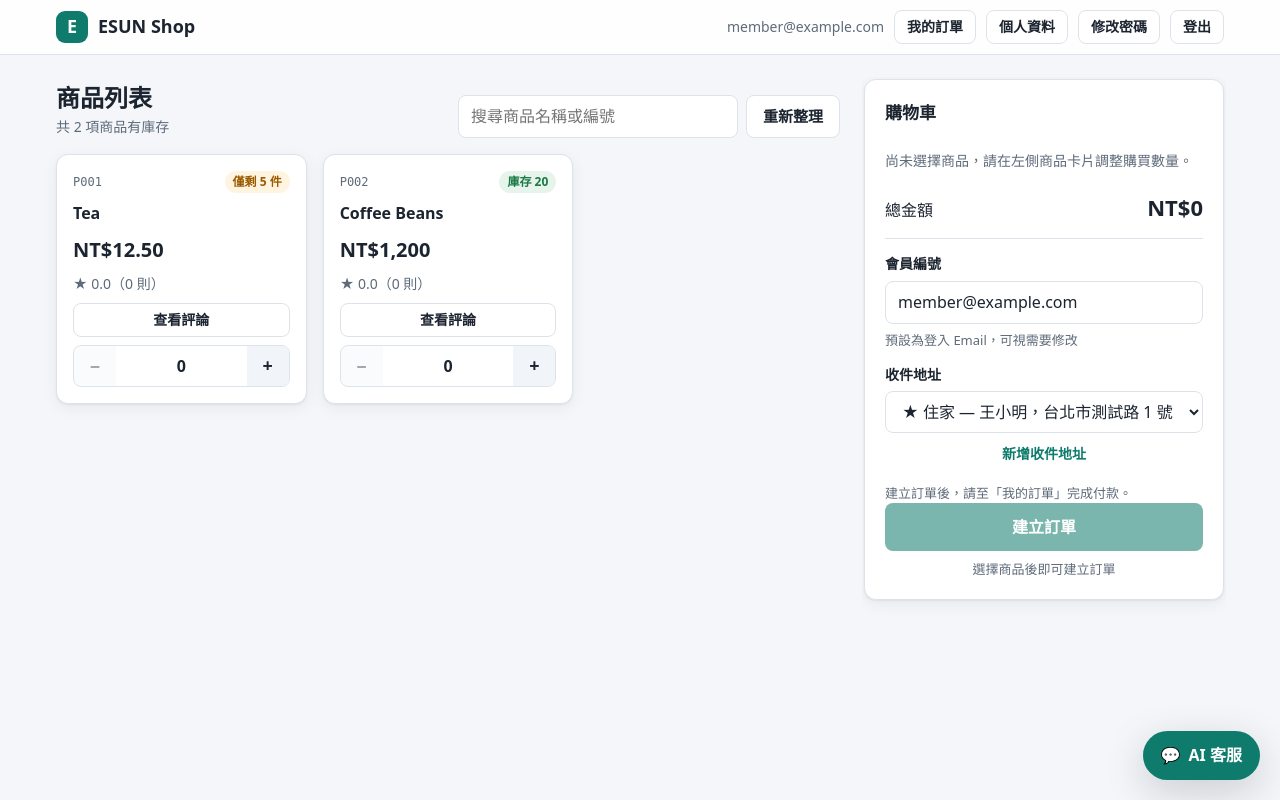
Test case: checkout › shows definitive checkout error, refreshes stock and keeps no retry
The image size is (1280, 800).
Replace the text in the number field named "Tea 購買數量" with "1" at (181, 366), box [116, 346, 247, 386]
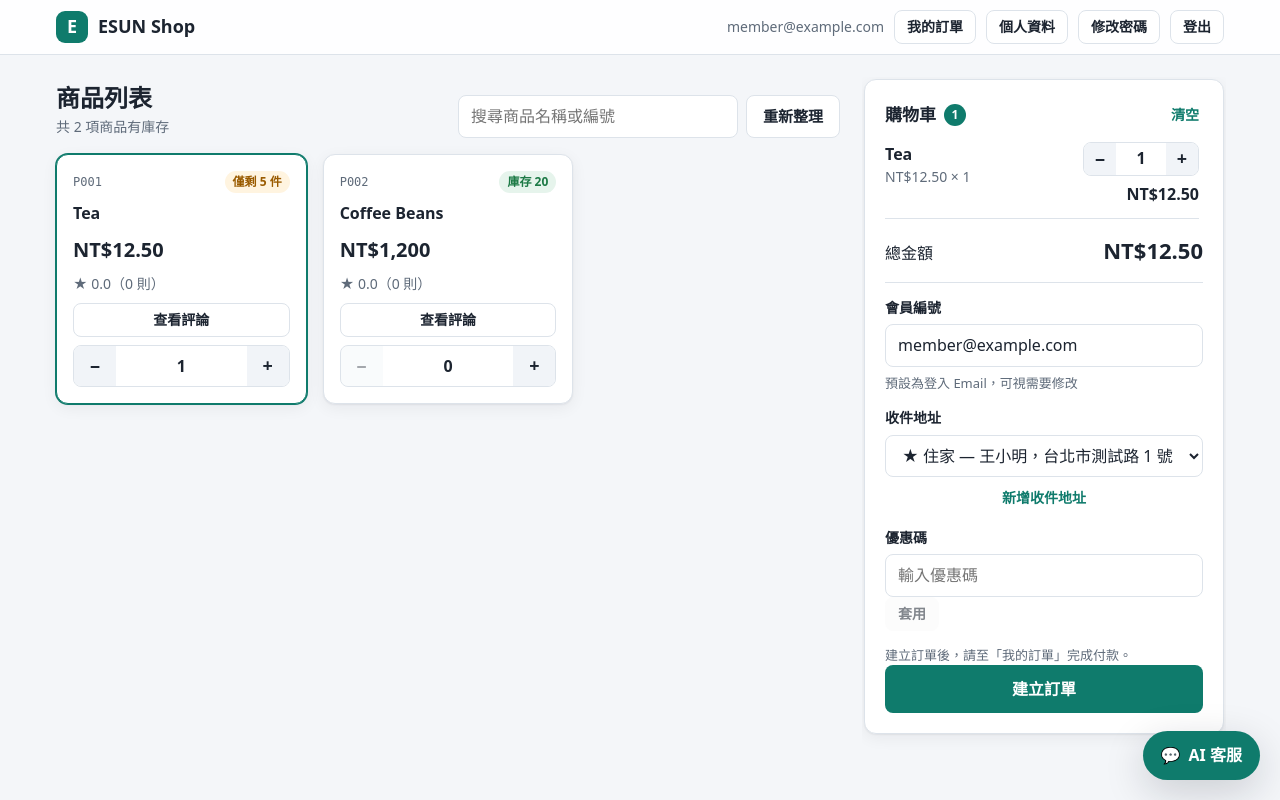
Submit the form with class "checkout", box [885, 282, 1203, 713]
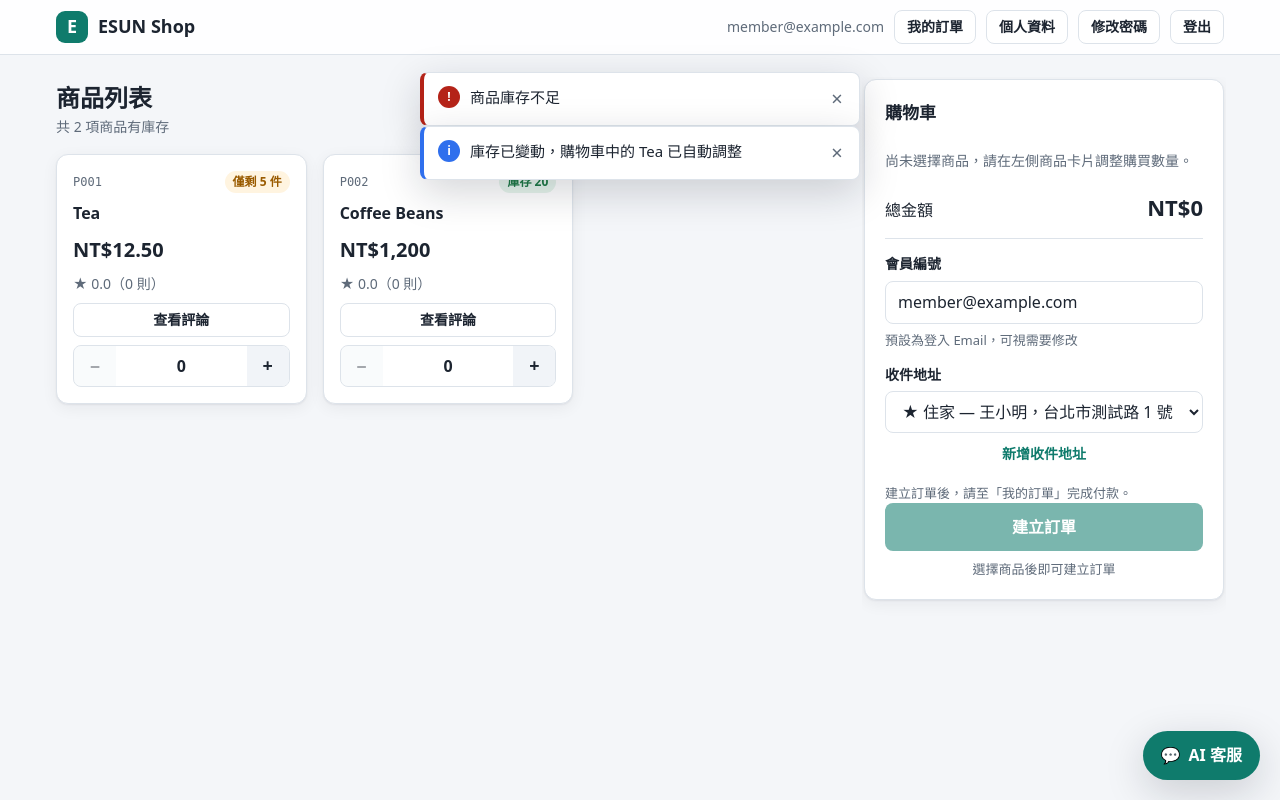
Expected: the text "商品庫存不足" is shown, [470, 87, 560, 107]
